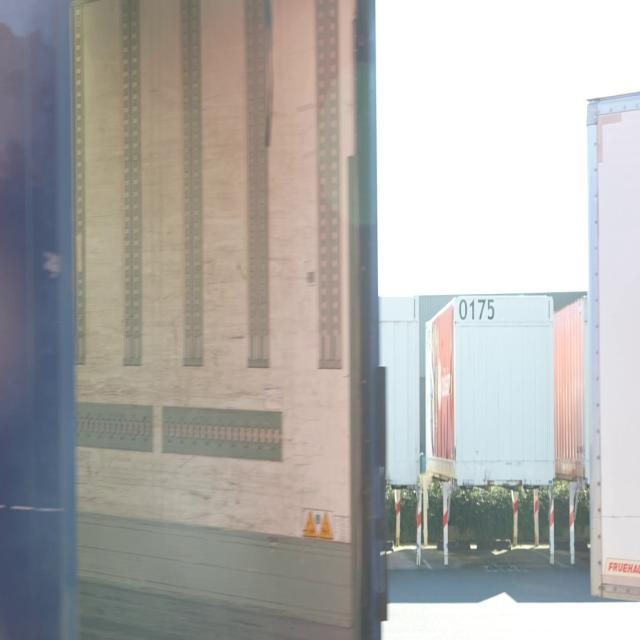Code: (456, 295, 497, 329)
